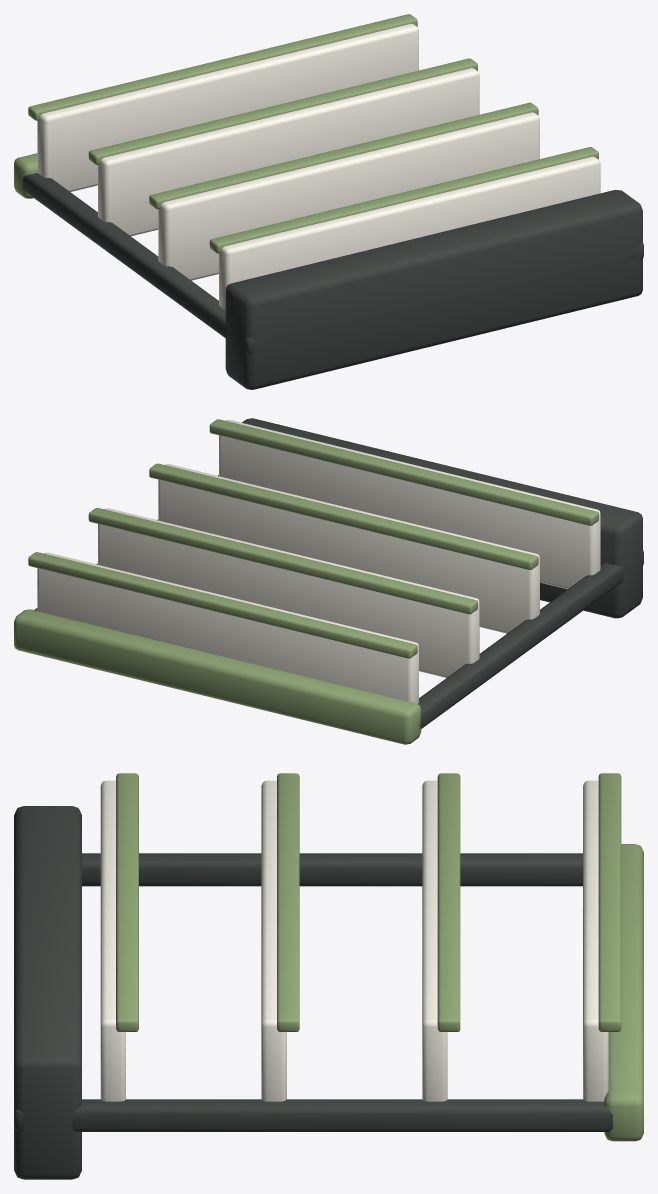
Rendered from rack_stockroom.glb.
3 views of the same model, one above another, from view 1: azimuth 30°, elevation 25°; view 2: azimuth 150°, elevation 25°; view 3: azimuth 270°, elevation 25° (orthographic). The views are drawn at different scales.
Visible parts, largest first — view 1: Base, Shelf.002, Shelf.001, Shelf.003, Shelf, Post, Trim, Trim.001, Trim.003, Trim.002, Header; view 2: Shelf.001, Shelf, Shelf.002, Header, Shelf.003, Base, Post, Trim.001, Trim, Trim.002, Trim.003; view 3: Base, Post.001, Post, Header, Trim.002, Trim.003, Trim, Trim.001, Shelf.002, Shelf, Shelf.001, Shelf.003.
Part boxes in pixels (bbox=[...]): Base: bbox=[225, 190, 642, 389]; Shelf.002: bbox=[98, 68, 479, 236]; Shelf.001: bbox=[158, 112, 539, 280]; Shelf.003: bbox=[37, 23, 418, 191]; Shelf: bbox=[219, 156, 600, 309]; Post: bbox=[23, 173, 262, 354]; Trim: bbox=[209, 147, 598, 253]; Trim.001: bbox=[149, 102, 538, 209]; Trim.003: bbox=[28, 14, 417, 120]; Trim.002: bbox=[88, 58, 477, 164]; Header: bbox=[14, 153, 37, 198]; Shelf.001: bbox=[158, 464, 539, 633]; Shelf: bbox=[219, 420, 600, 589]; Shelf.002: bbox=[98, 508, 479, 677]; Header: bbox=[14, 609, 421, 744]; Shelf.003: bbox=[37, 552, 418, 703]; Base: bbox=[242, 418, 642, 618]; Post: bbox=[418, 550, 643, 728]; Trim.001: bbox=[149, 463, 538, 569]; Trim: bbox=[209, 419, 598, 525]; Trim.002: bbox=[88, 507, 477, 614]; Trim.003: bbox=[28, 552, 417, 658]; Base: bbox=[14, 806, 81, 1179]; Post.001: bbox=[14, 1099, 612, 1131]; Post: bbox=[82, 853, 582, 886]; Header: bbox=[604, 844, 643, 1141]; Trim.002: bbox=[437, 773, 460, 1031]; Trim.003: bbox=[598, 773, 621, 1031]; Trim: bbox=[116, 773, 138, 1031]; Trim.001: bbox=[277, 773, 299, 1031]; Shelf.002: bbox=[422, 780, 447, 1101]; Shelf: bbox=[100, 780, 125, 1101]; Shelf.001: bbox=[261, 780, 286, 1101]; Shelf.003: bbox=[583, 780, 608, 1101].
Size of the model in its own units: 2.15 by 0.615 by 2.22.
